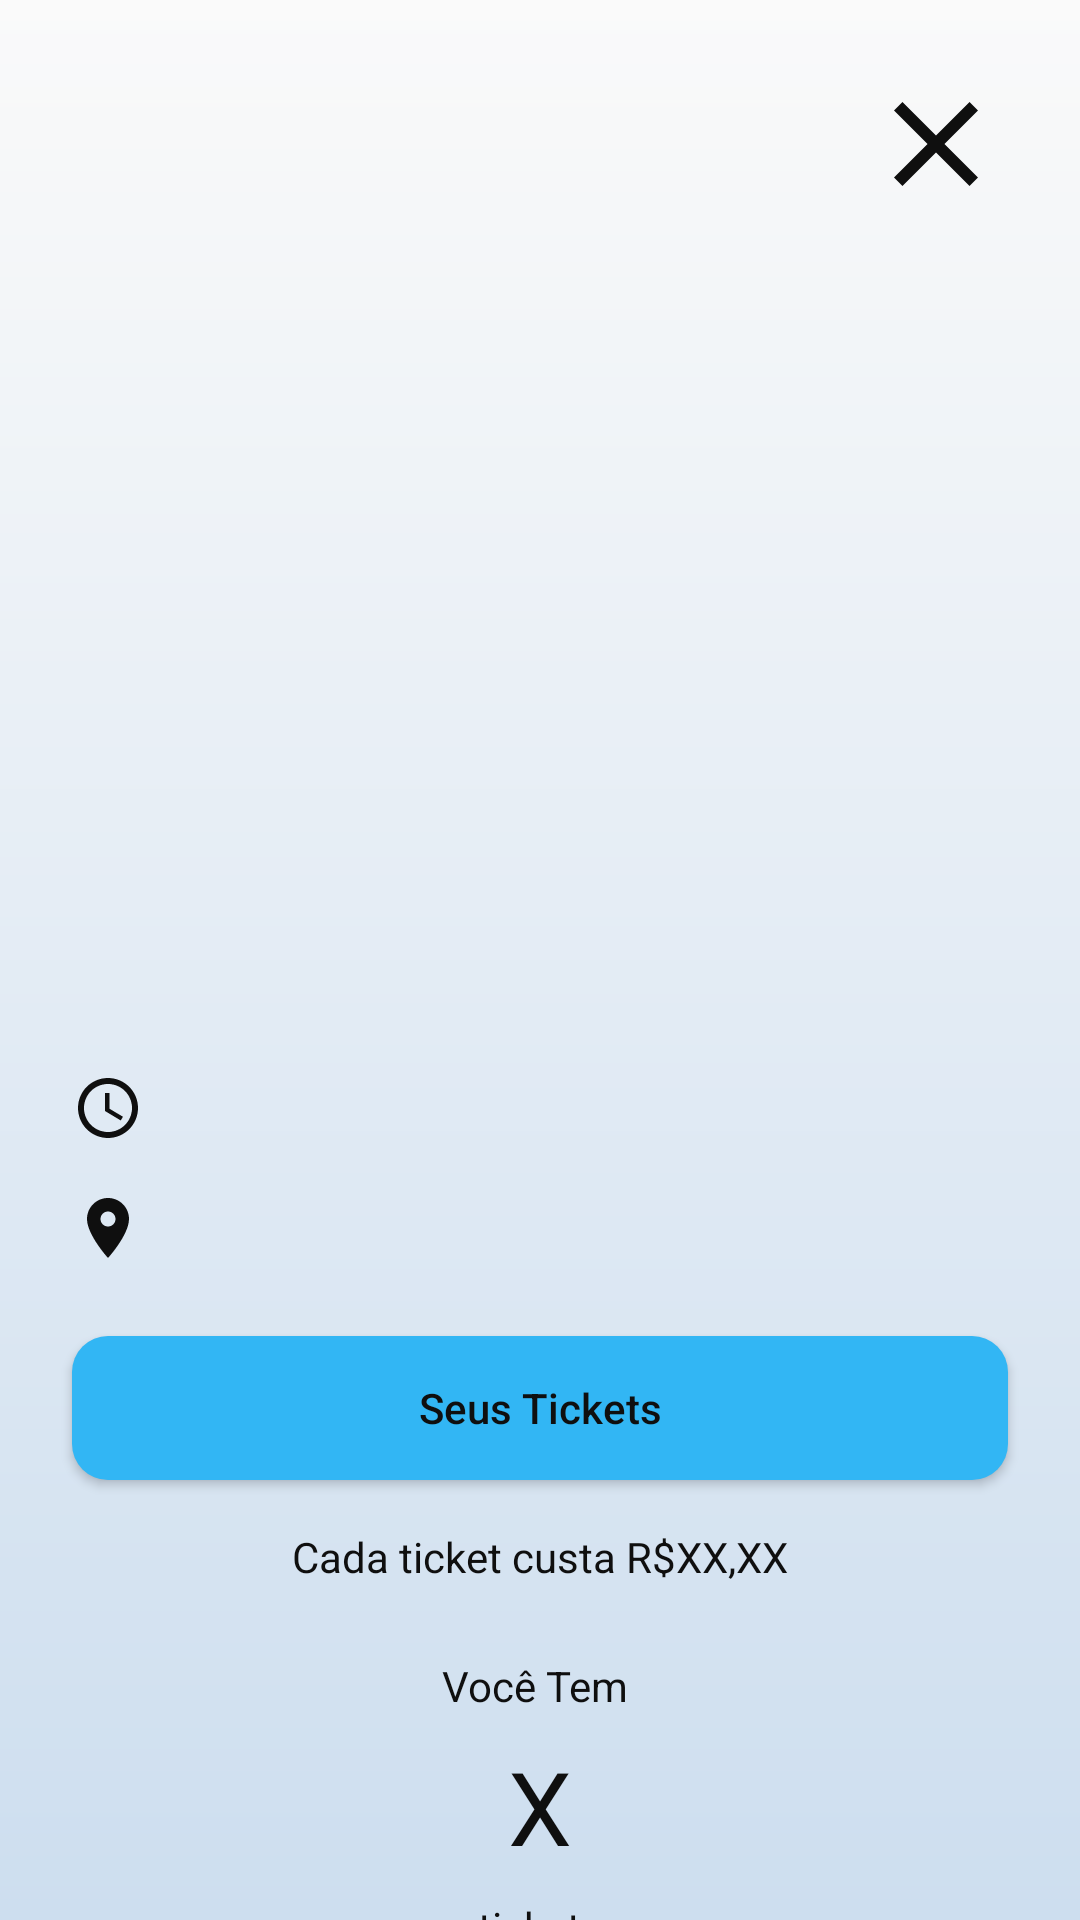

Icon click points for this 1080 x 1920 phone screenshot, format (x,y):
cancel: (936,144)
